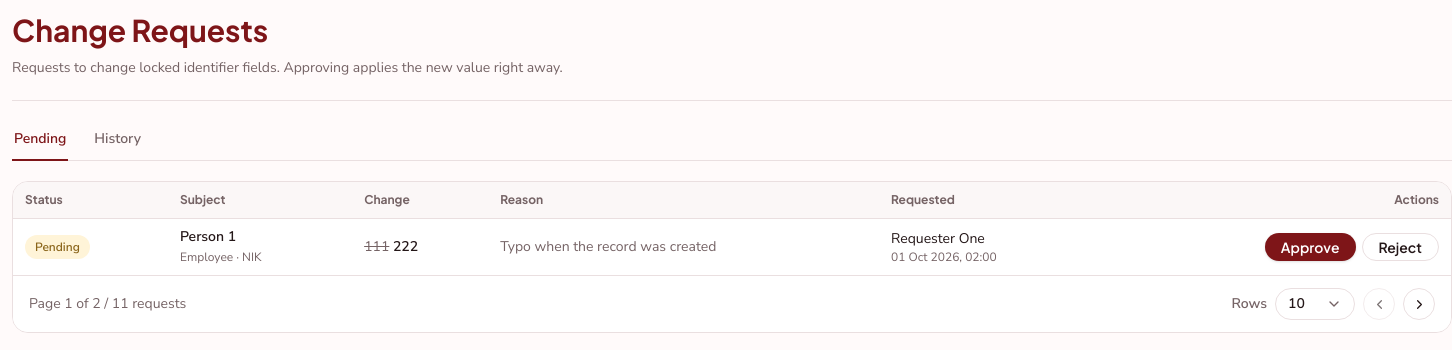
ChangeRequestsPage › shows a compact paged table and asks the server for the next page
expect the link "Person 1" is shown: met, box [180, 227, 236, 246]
expect the column heading "Reason" is shown: met, box [488, 182, 879, 218]
Click the button named "Next". click: (1419,304)
box: [1403, 288, 1435, 320]
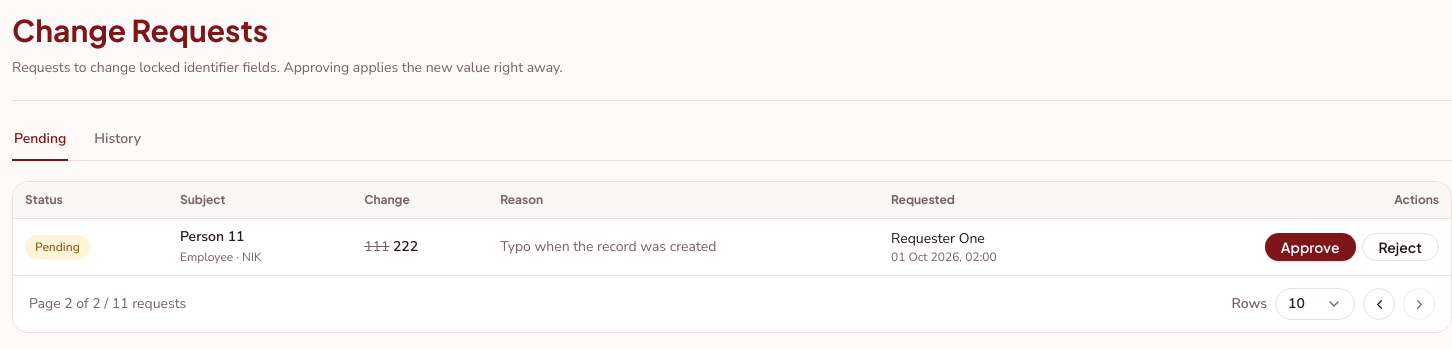
expect the link "Person 11" is shown: met, box [180, 227, 245, 246]
